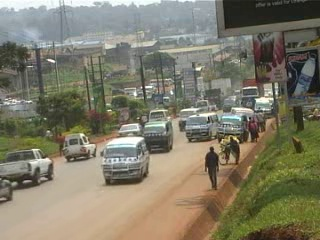Car: (115, 118, 145, 142), (0, 169, 14, 207)
